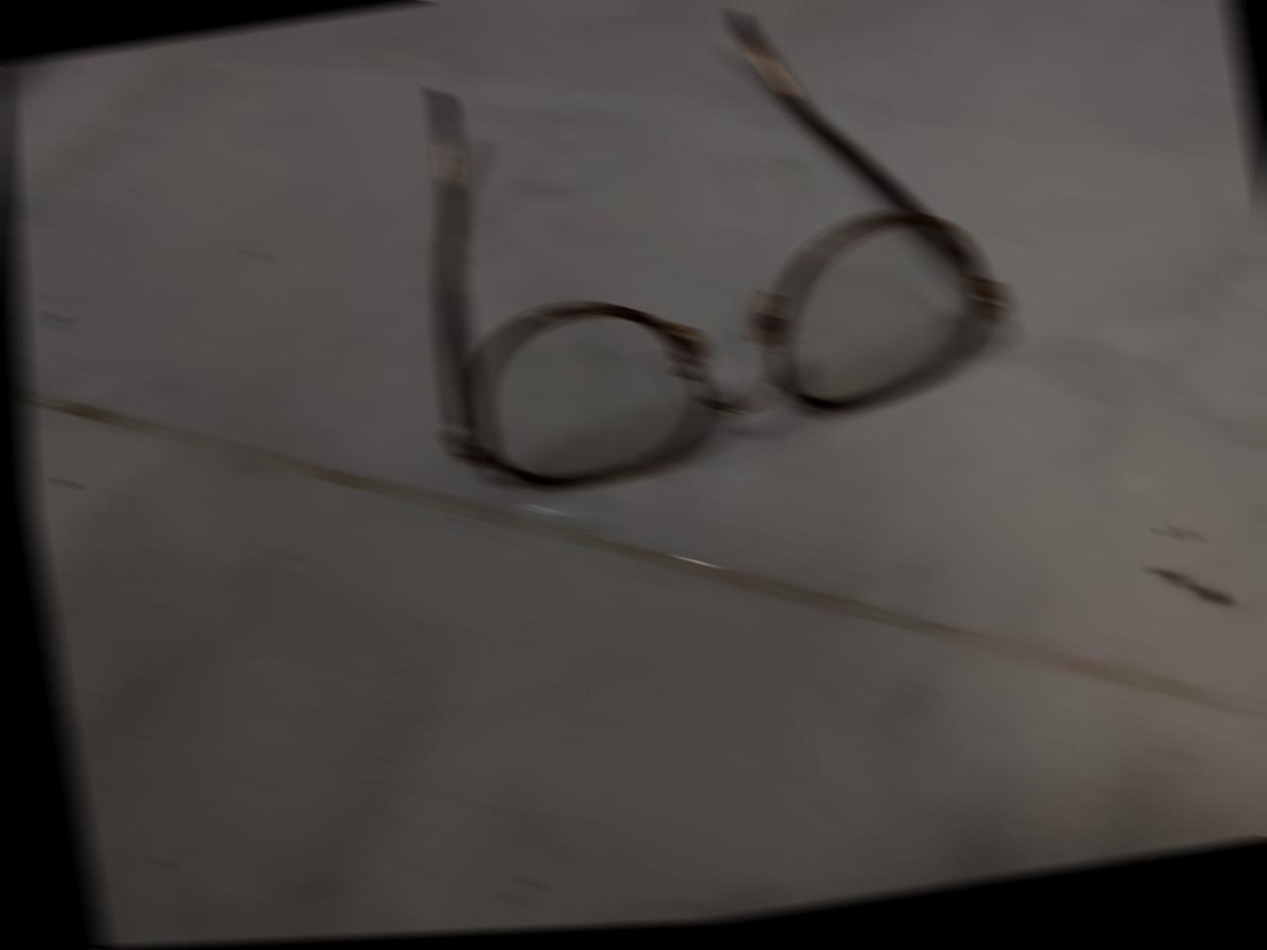glasses: (351, 0, 1047, 515)
